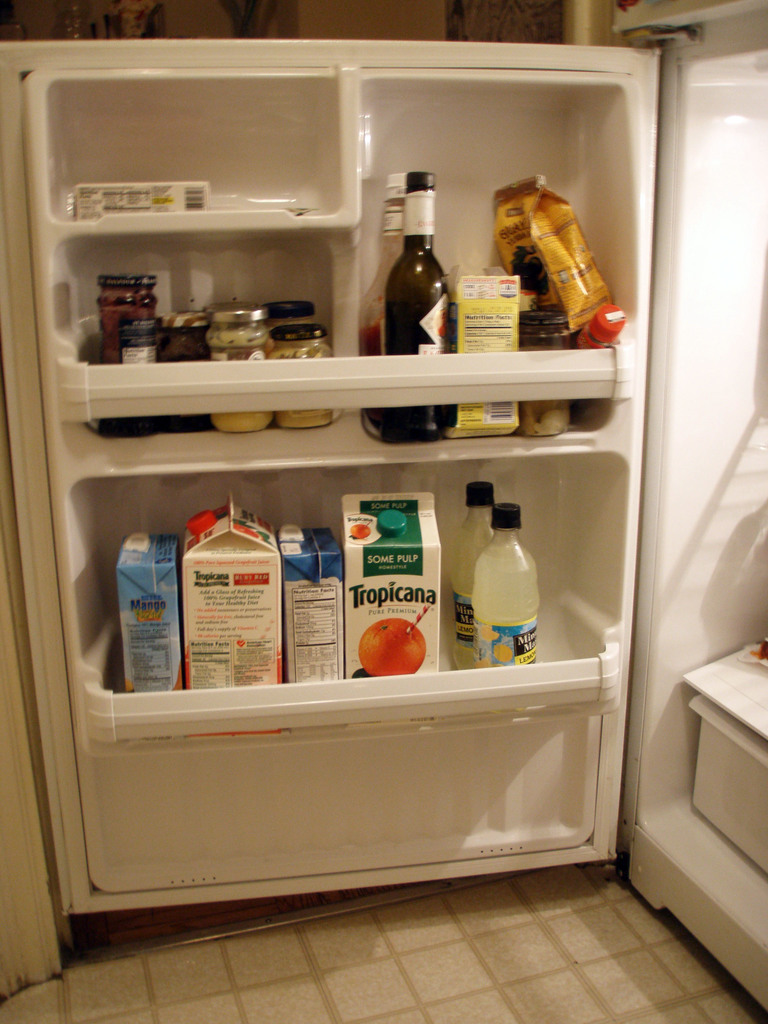refrigerator door: (15, 58, 623, 863)
